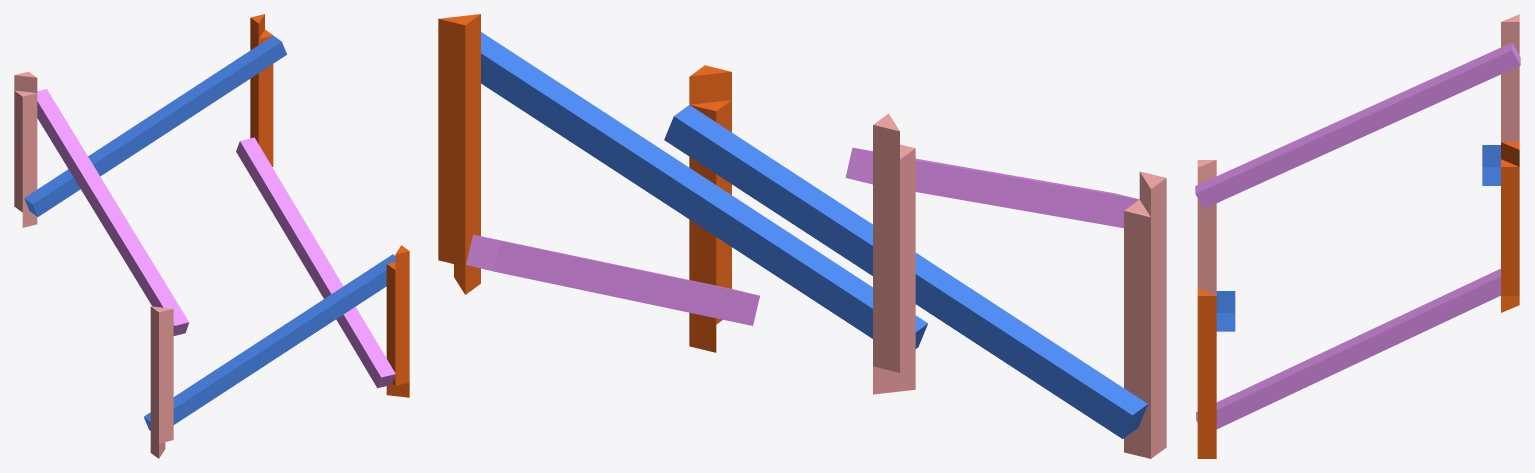
The model's file is ModuleAssymbly_13.obj.
3 views of the same model, side by side, from view 1: azimuth 30°, elevation 25°; view 2: azimuth 150°, elevation 25°; view 3: azimuth 270°, elevation 25° (orthographic). The views are drawn at different scales.
Parts seen in each view (by area): view 1: object_4, object_5, object_6, object_7, object_8, object_3, object_1, object_2; view 2: object_5, object_4, object_3, object_2, object_8, object_7, object_6, object_1; view 3: object_6, object_7, object_1, object_2, object_8, object_3, object_5, object_4.
Boxes of the visible parts, x1,y1,x2,y2 form: object_4: (24, 35, 286, 216); object_5: (144, 254, 395, 430); object_6: (37, 89, 189, 335); object_7: (236, 137, 395, 388); object_8: (150, 306, 173, 458); object_3: (14, 71, 37, 227); object_1: (386, 245, 409, 397); object_2: (250, 14, 273, 166); object_5: (664, 105, 1147, 438); object_4: (481, 32, 927, 348); object_3: (873, 113, 915, 394); object_2: (438, 14, 480, 294); object_8: (1124, 171, 1166, 458); object_7: (466, 234, 759, 325); object_6: (845, 147, 1139, 228); object_1: (689, 65, 731, 352); object_6: (1195, 42, 1520, 208); object_7: (1196, 268, 1500, 429); object_1: (1197, 288, 1216, 458); object_2: (1501, 142, 1519, 312); object_8: (1197, 160, 1216, 295); object_3: (1501, 14, 1519, 141); object_5: (1216, 291, 1235, 331); object_4: (1482, 145, 1500, 185).
Size of the model in its own units: 0.6127 by 0.635 by 0.606.
